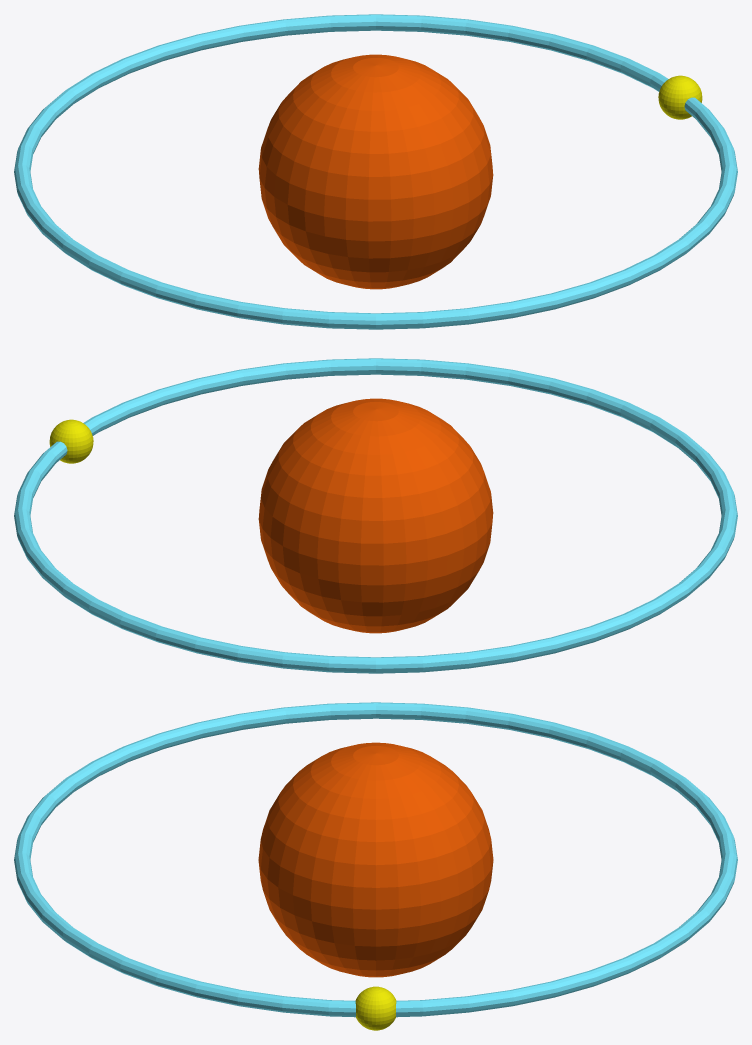
File: hydrogen_dpsd19080.glb
3 views of the same model, one above another, from view 1: azimuth 30°, elevation 25°; view 2: azimuth 150°, elevation 25°; view 3: azimuth 270°, elevation 25° (orthographic).
Visible parts, largest first — view 1: Sphere.001; view 2: Sphere.001; view 3: Sphere.001.
Boxes of the visible parts, x1,y1,x2,y2 form: Sphere.001: (14,14,737,329); Sphere.001: (14,358,737,673); Sphere.001: (14,702,737,1030).
Size of the model in its own units: 2.05 by 0.6556 by 2.02.
